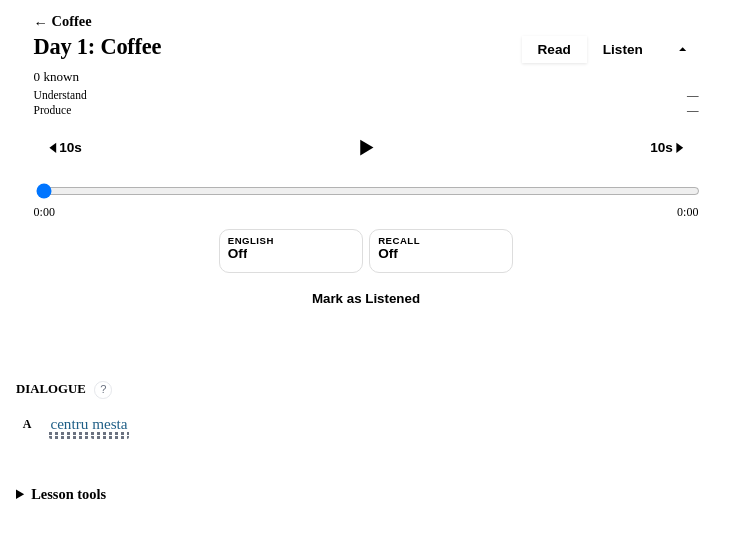
Test: /c/[curriculumId]/l/[lessonId] page › handleCreatePhrase › sets error when createSRSItem throws an Error
Press the mouse on the button "centru" at (69, 427), box top-left (49, 415), bottom-right (89, 439)
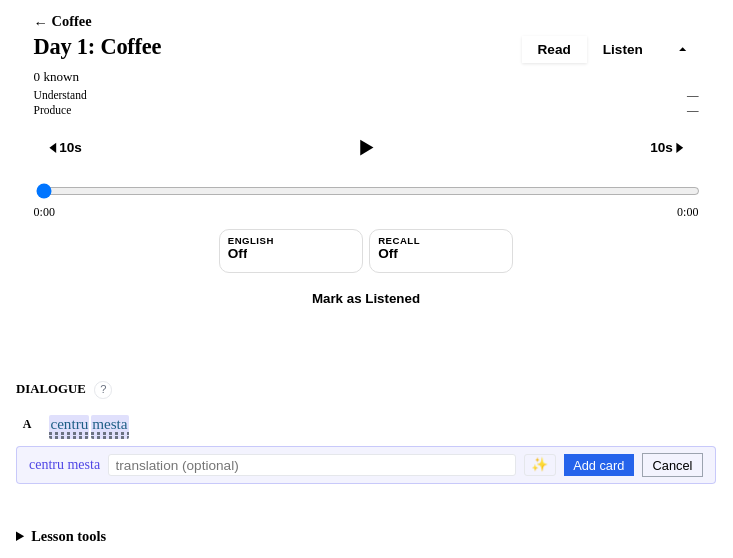
Click the button with class "confirm-create" at (599, 465), box top-left (564, 454), bottom-right (634, 476)
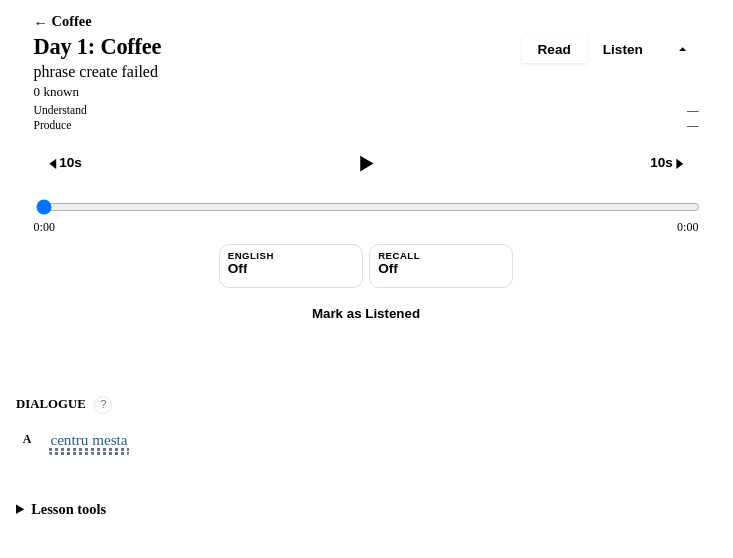
Expected: the text "phrase create failed" is shown, top-left (34, 63), bottom-right (158, 80)
